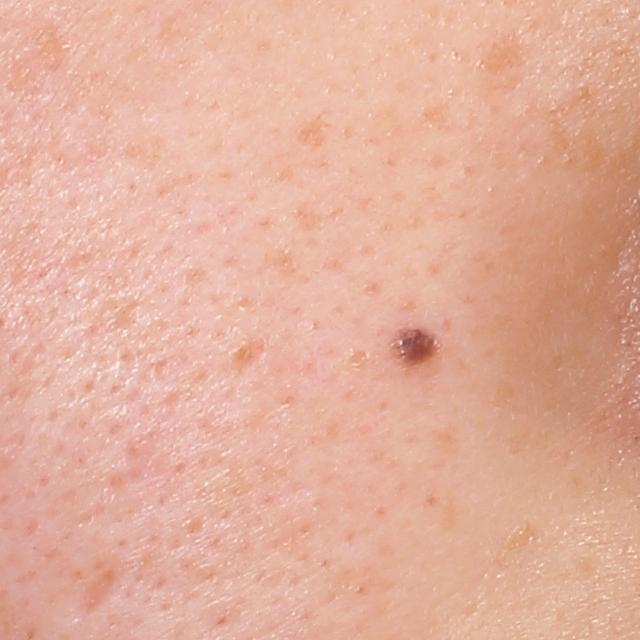atrophic_scar: (82, 567, 119, 612)
melasma: (480, 37, 523, 82)
